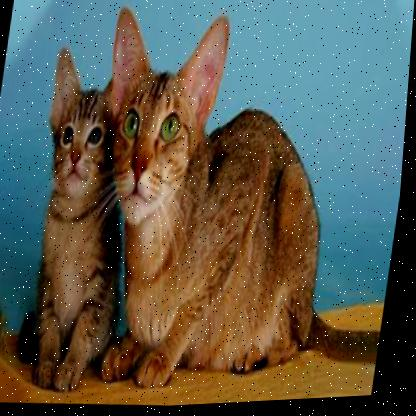cat: (82, 0, 237, 221), (34, 46, 129, 214)
